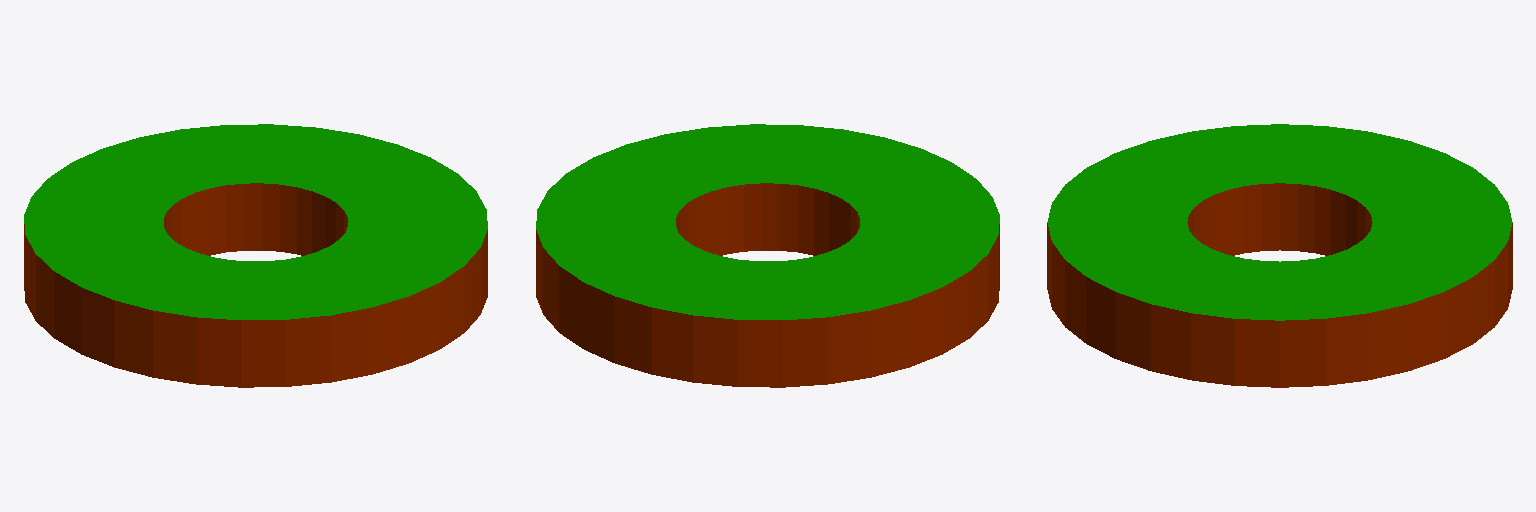
The model's file is HikeGardenTicoRotatePlanet.obj.
3 renders of one model, left to right at view 1: azimuth 30°, elevation 25°; view 2: azimuth 150°, elevation 25°; view 3: azimuth 270°, elevation 25°, orthographic.
Parts seen in each view (by area): view 1: Circle.001, Circle; view 2: Circle.001, Circle; view 3: Circle.001, Circle.
Part boxes in pixels (left/top/right/bottom): Circle.001: left=24, top=124, right=487, bottom=319; Circle: left=24, top=183, right=487, bottom=387; Circle.001: left=536, top=124, right=999, bottom=319; Circle: left=536, top=183, right=999, bottom=387; Circle.001: left=1047, top=124, right=1512, bottom=320; Circle: left=1047, top=183, right=1512, bottom=387.
Bounding box in the file's own units: 2254 × 359 × 2254.